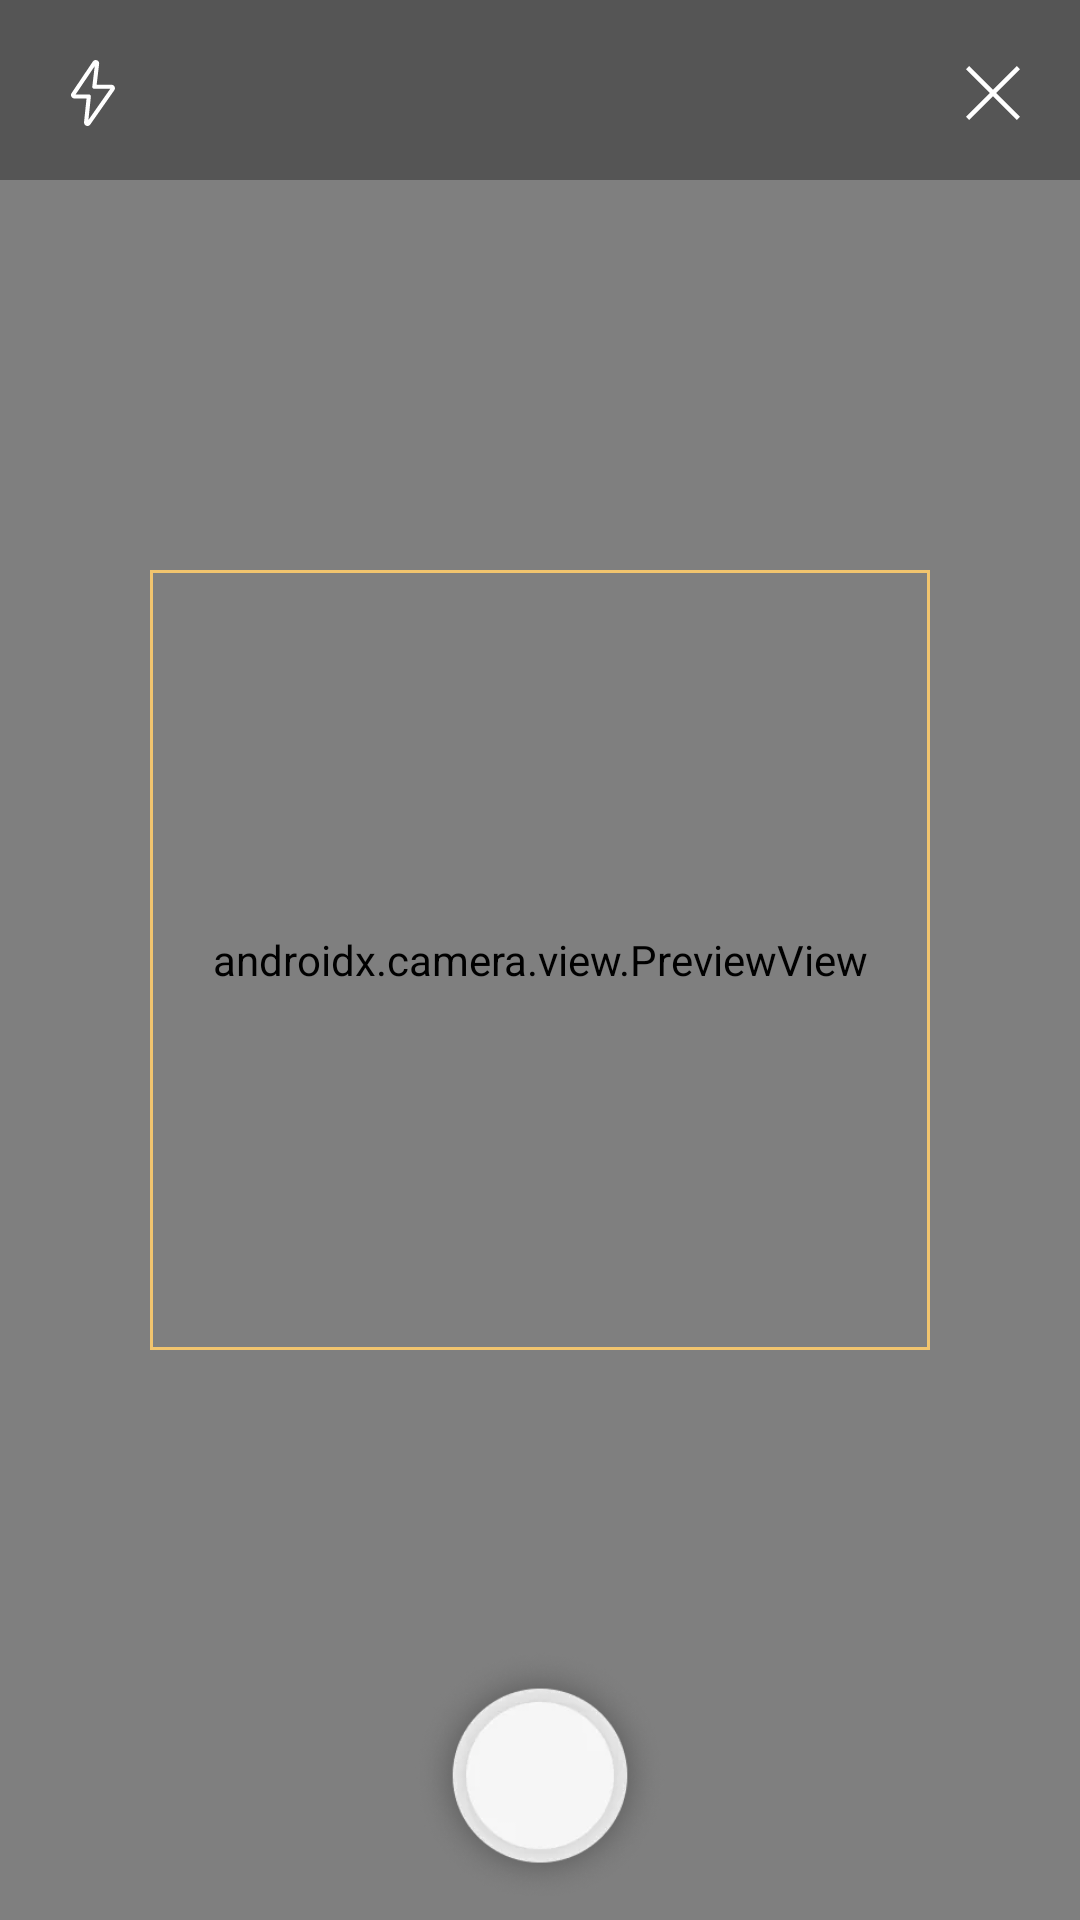

Screen size 1080*1920. Icon name, then its box in pixels as (x1, y1, x2, y2):
flash: (71, 60, 115, 126)
